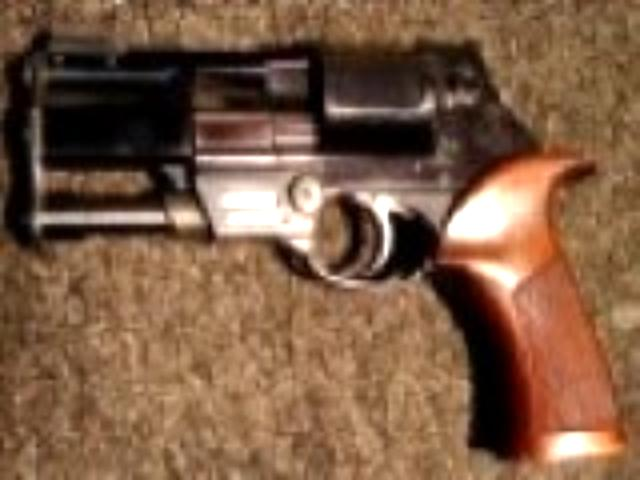pistol: (16, 24, 624, 456)
